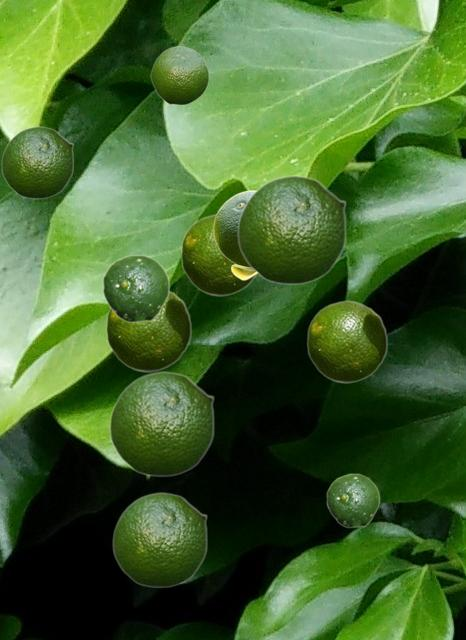calamansi: (237, 175, 346, 284), (109, 371, 214, 476), (112, 492, 207, 587), (105, 289, 191, 371), (306, 300, 387, 382), (180, 213, 257, 295), (1, 126, 73, 198), (102, 254, 169, 322), (213, 190, 257, 279), (150, 45, 208, 104), (326, 473, 379, 527)
